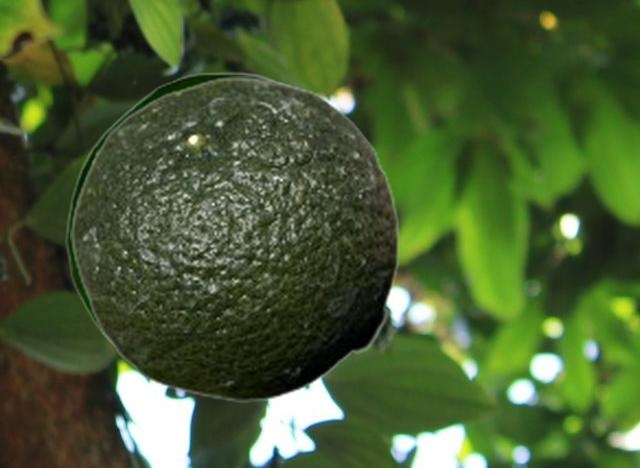calamansi: (70, 76, 399, 401), (65, 71, 301, 350)
